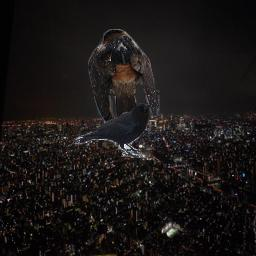Crow: (75, 102, 151, 158)
Swallow: (88, 29, 160, 128)
